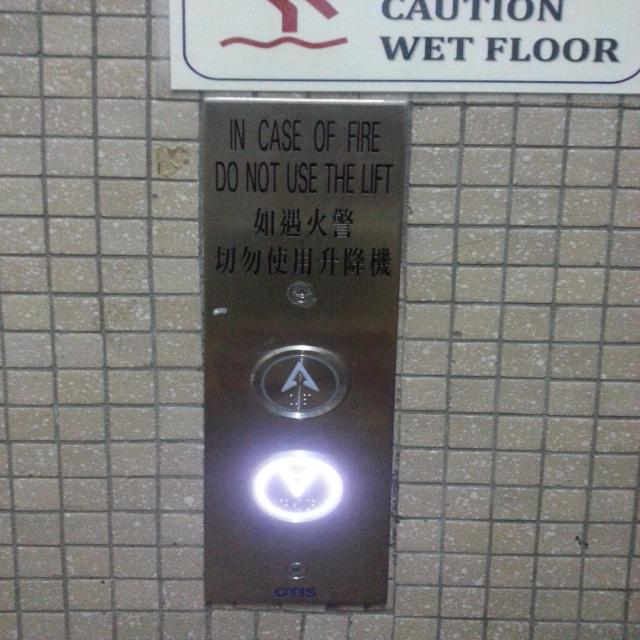down: (246, 450, 350, 526)
up: (248, 344, 350, 422)
